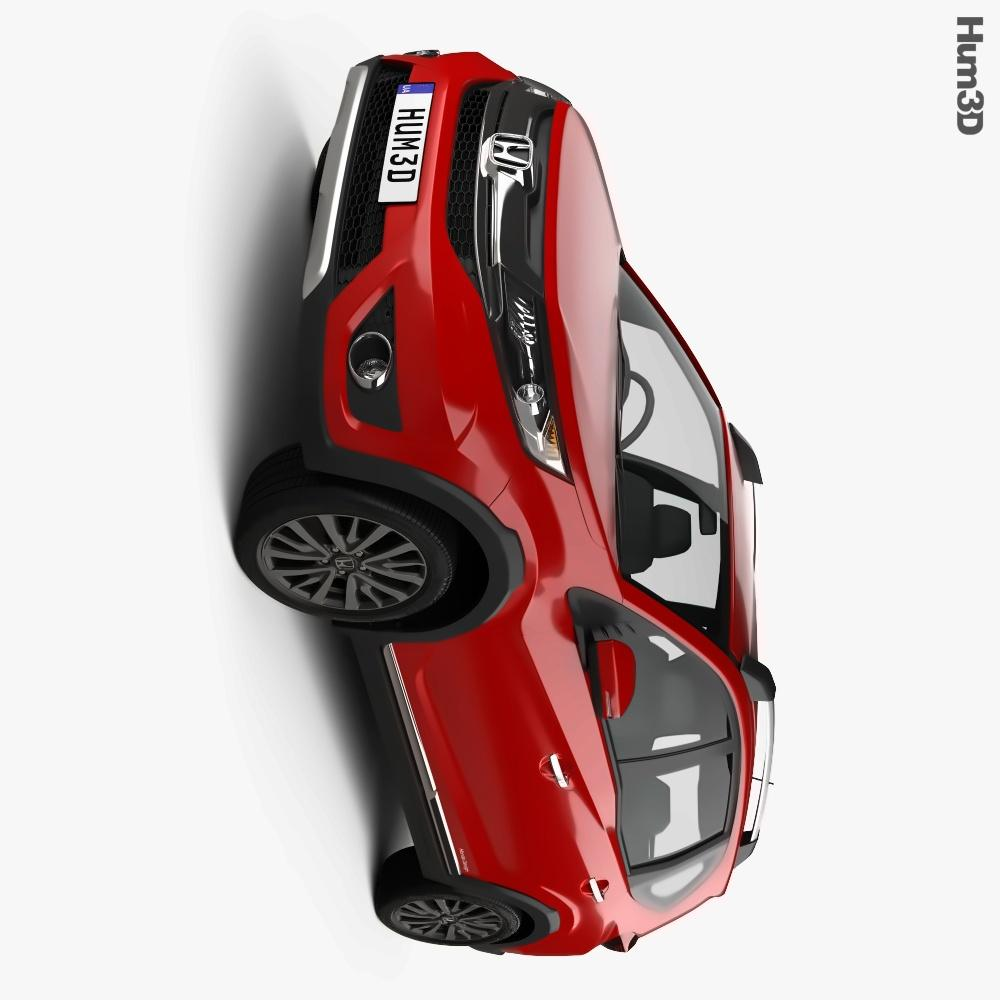Car hood: (537, 78, 634, 549)
Fender - -F-L-: (352, 450, 624, 668)
Fender - -R-L-: (402, 878, 657, 942)
Front bumper: (290, 34, 510, 508)
Headlight - -L-: (480, 244, 583, 484)
Headlight - -R-: (510, 60, 581, 119)
Passenger-s door - -F-L-: (382, 611, 763, 786)
Passenger-s door - -R-L-: (427, 755, 748, 896)
Rear bumper: (460, 931, 603, 965)
Rear light - -L-: (590, 907, 666, 970)
Side bumper - -L-: (320, 622, 472, 896)
Side mirror - -L-: (568, 606, 646, 731)
